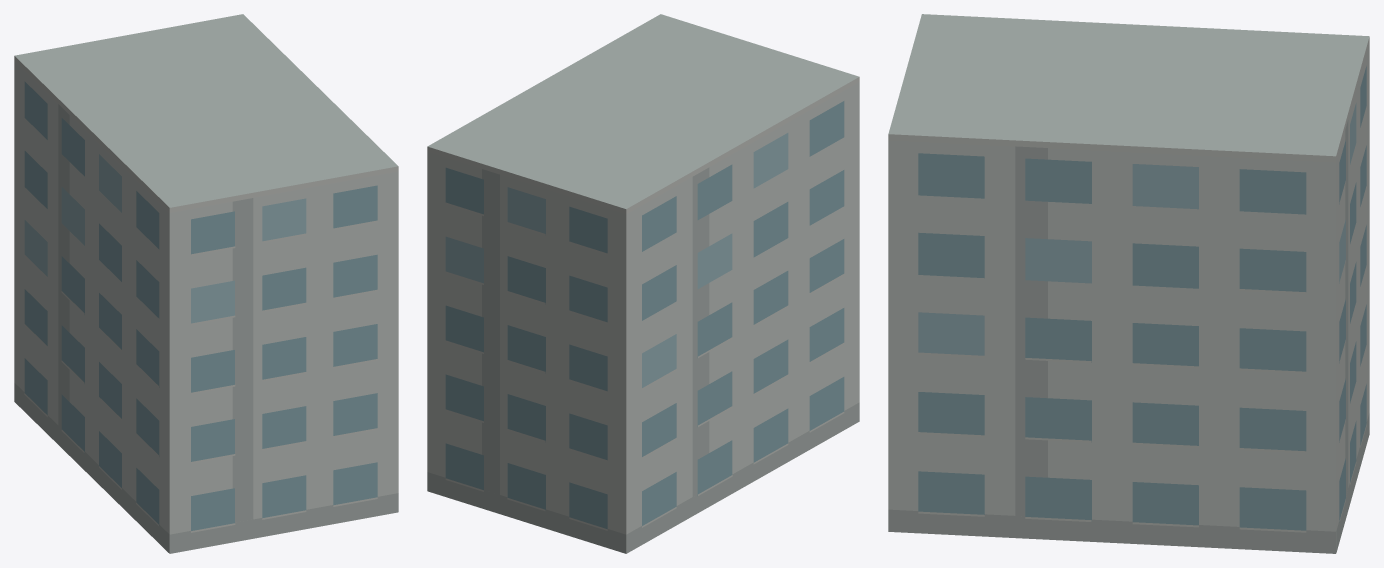
File: survey-upis-32573251.glb
3 renders of one model, left to right at view 1: azimuth 30°, elevation 25°; view 2: azimuth 150°, elevation 25°; view 3: azimuth 270°, elevation 25°, orthographic. The views are drawn at different scales.
Parts seen in each view (by area): view 1: survey-upis-32573251.tmp; view 2: survey-upis-32573251.tmp; view 3: survey-upis-32573251.tmp.
Part boxes in pixels (box(x1,y1,x2,y2)): survey-upis-32573251.tmp: box(14, 14, 398, 553); survey-upis-32573251.tmp: box(427, 14, 859, 553); survey-upis-32573251.tmp: box(888, 14, 1369, 553).
Size of the model in its own units: 12.36 by 16.1 by 17.67.
